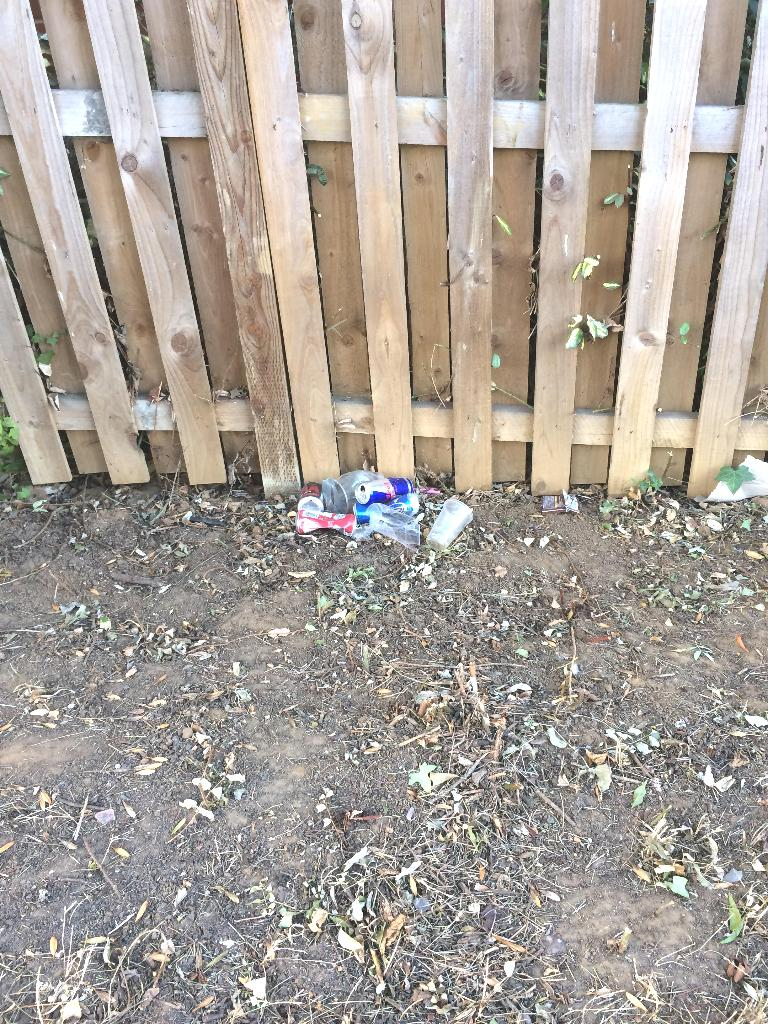garbage: (289, 471, 503, 573), (353, 493, 419, 526), (296, 510, 361, 536), (355, 477, 413, 505), (298, 482, 324, 512)
